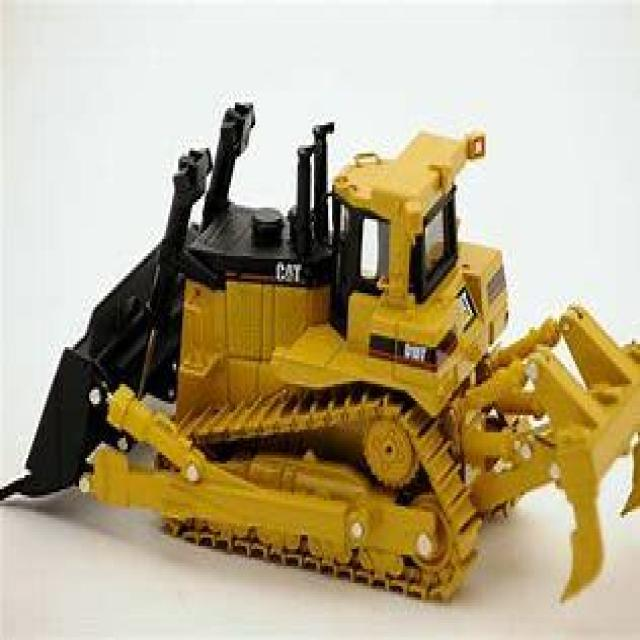buldozerpayloadergrader: (10, 83, 638, 600)
